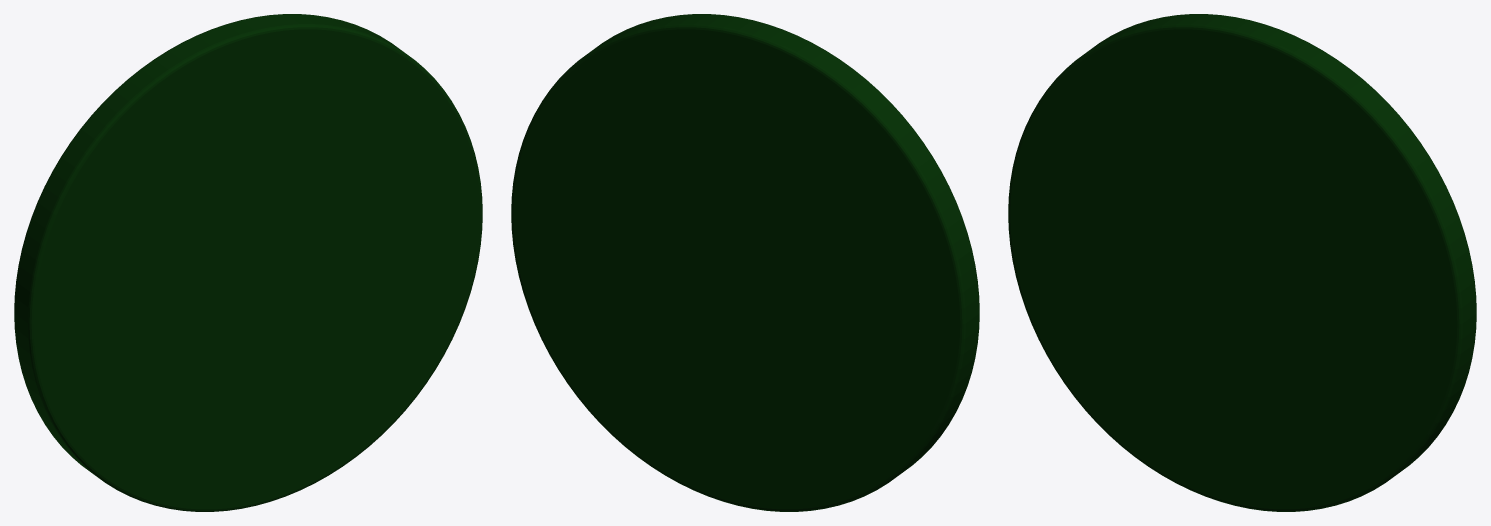
The model's file is lens_green.dae.
3 renders of one model, left to right at view 1: azimuth 30°, elevation 25°; view 2: azimuth 150°, elevation 25°; view 3: azimuth 330°, elevation 25°, orthographic.
Parts seen in each view (by area): view 1: g0; view 2: g0; view 3: g0.
Boxes of the visible parts, left/top/right/bottom form: g0: left=14, top=14, right=482, bottom=511; g0: left=511, top=14, right=979, bottom=511; g0: left=1008, top=14, right=1476, bottom=511.
Bounding box in the file's own units: 0.045 × 0.003 × 0.045.
